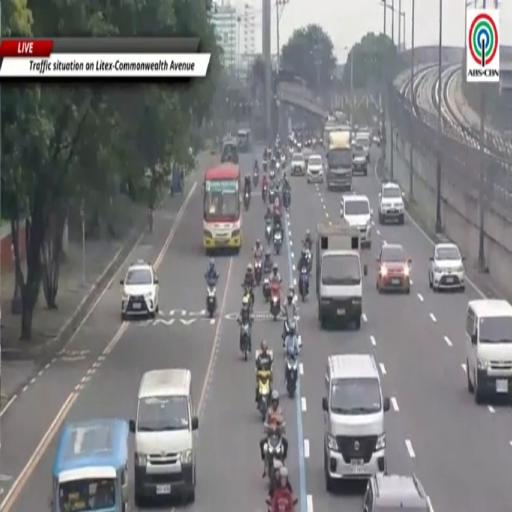bus: (204, 164, 241, 253)
car: (363, 473, 432, 511), (120, 261, 159, 321), (429, 243, 465, 291), (340, 194, 372, 248), (376, 245, 411, 294), (379, 182, 404, 225), (352, 142, 368, 175), (355, 131, 371, 162), (307, 154, 323, 183), (291, 153, 305, 175)
motorcycle: (264, 423, 285, 488), (285, 334, 298, 397), (257, 370, 272, 420), (284, 312, 301, 347), (239, 323, 251, 360), (265, 498, 298, 511), (270, 283, 281, 321), (207, 283, 217, 317), (299, 267, 308, 301), (243, 284, 254, 311), (273, 231, 282, 254), (254, 260, 262, 285), (263, 253, 272, 275), (262, 278, 270, 302), (305, 248, 312, 273), (283, 187, 290, 210), (265, 222, 272, 244), (244, 191, 250, 211), (268, 188, 275, 204), (270, 158, 275, 178), (253, 170, 258, 187), (262, 185, 267, 202), (270, 168, 275, 180), (276, 162, 281, 171), (263, 160, 267, 171), (282, 154, 285, 167)
truck: (315, 219, 368, 329), (326, 127, 352, 190)
